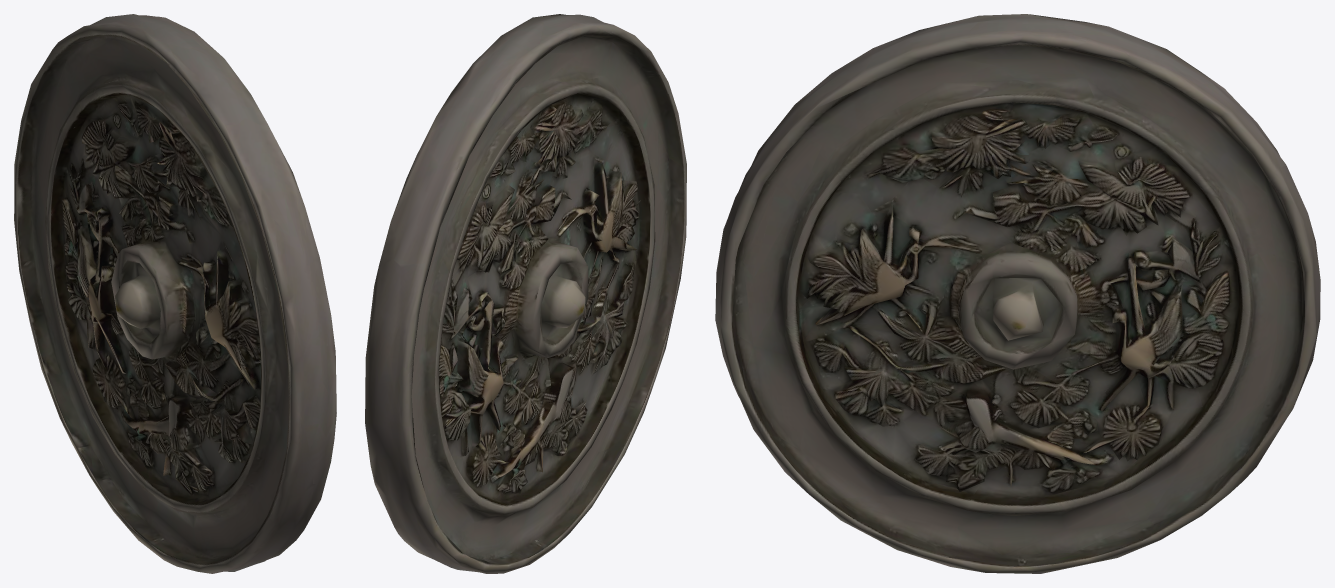
File: wakyo.glb
3 views of the same model, side by side, from view 1: azimuth 30°, elevation 25°; view 2: azimuth 150°, elevation 25°; view 3: azimuth 270°, elevation 25° (orthographic). The views are drawn at different scales.
Visible parts, largest first — view 1: tripo_node_fa888e77-9d16-41d8-8193-1884e71c03d5; view 2: tripo_node_fa888e77-9d16-41d8-8193-1884e71c03d5; view 3: tripo_node_fa888e77-9d16-41d8-8193-1884e71c03d5.
Part boxes in pixels (left/top/right/bottom): tripo_node_fa888e77-9d16-41d8-8193-1884e71c03d5: left=14, top=14, right=336, bottom=573; tripo_node_fa888e77-9d16-41d8-8193-1884e71c03d5: left=365, top=14, right=686, bottom=573; tripo_node_fa888e77-9d16-41d8-8193-1884e71c03d5: left=715, top=14, right=1320, bottom=573.
Bounding box in the file's own units: 0.2427 × 0.9971 × 1.
Materials: 1 (1 with a texture image).
